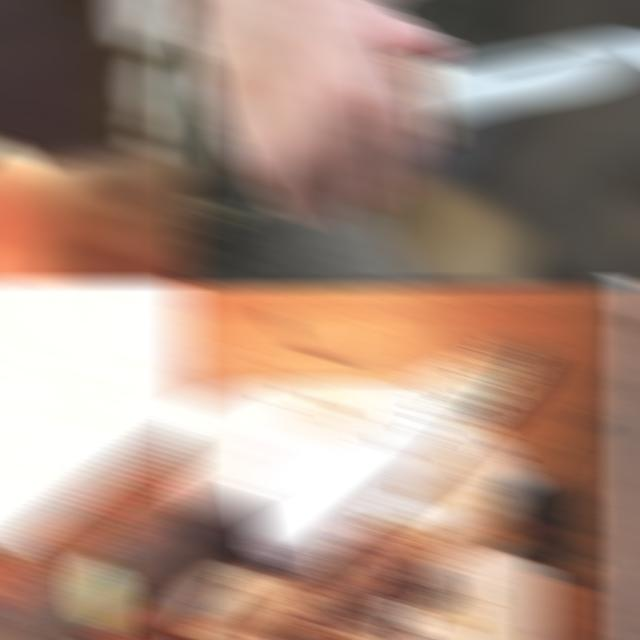Knife: (388, 30, 640, 146)
Knife_Handle: (176, 0, 640, 243), (0, 0, 57, 284)
